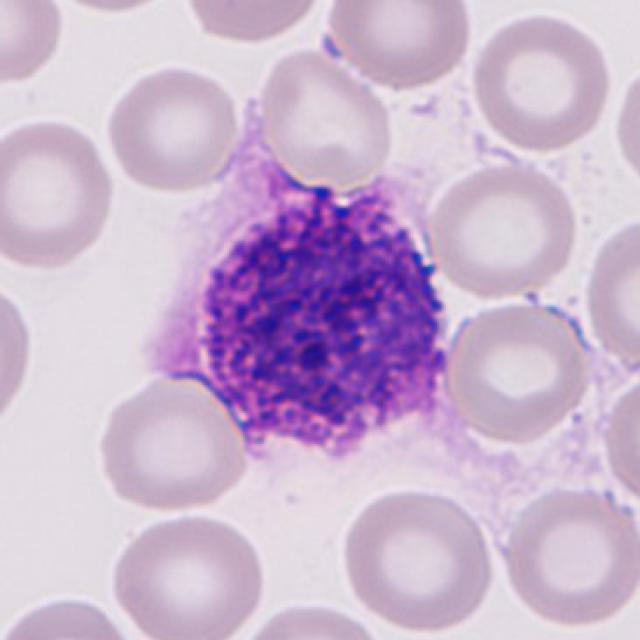Basophil: (130, 149, 470, 493)
RBC: (336, 482, 500, 637), (437, 293, 596, 446), (422, 154, 582, 302), (91, 371, 253, 515), (105, 506, 271, 640), (467, 7, 615, 156), (497, 479, 638, 633), (250, 42, 397, 187), (101, 59, 245, 196), (0, 113, 121, 274), (316, 0, 478, 90), (580, 209, 640, 383), (177, 0, 332, 49), (0, 588, 145, 640), (231, 595, 393, 640), (598, 366, 640, 519), (0, 0, 68, 88), (0, 278, 37, 436), (610, 57, 640, 194), (35, 0, 189, 17)
